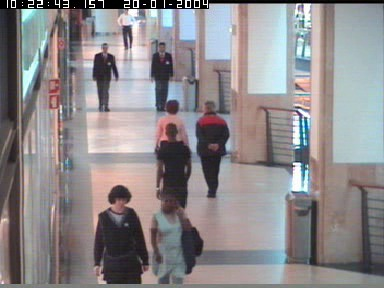person: (91, 185, 149, 283), (150, 190, 204, 284), (156, 122, 191, 223), (197, 98, 230, 197), (155, 99, 190, 189), (148, 42, 174, 110), (92, 43, 118, 110), (117, 8, 135, 49)
